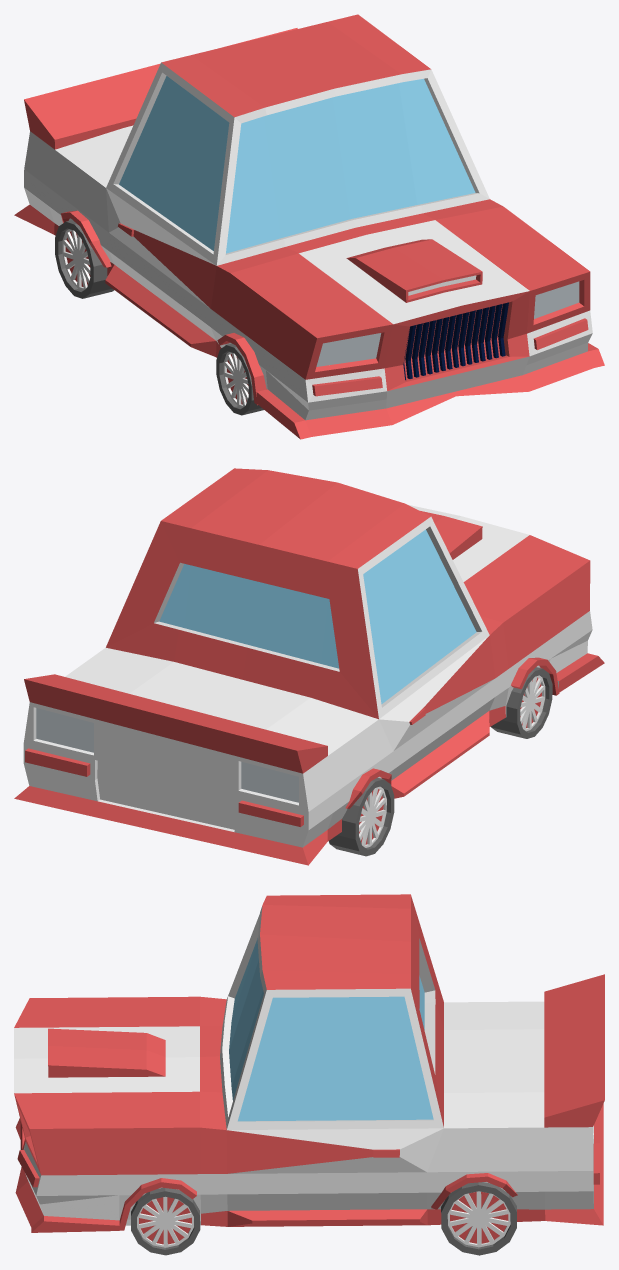
The model's file is Low-Poly-Racing-Car.glb.
3 renders of one model, top to bottom at view 1: azimuth 30°, elevation 25°; view 2: azimuth 150°, elevation 25°; view 3: azimuth 270°, elevation 25°, orthographic.
Parts seen in each view (by area): view 1: body, lattice.1, wheel.1, headlight, wheel1.1, front_fender, rear_fender; view 2: body, backlight, wheel.1, wheel1.1, front_fender, rear_fender; view 3: body, wheel.1, wheel1.1, front_fender, rear_fender.
Boxes of the visible parts, left/top/right/bottom form: body: left=14, top=14, right=604, bottom=439; lattice.1: left=403, top=302, right=508, bottom=380; wheel.1: left=55, top=220, right=114, bottom=298; headlight: left=316, top=281, right=579, bottom=366; wheel1.1: left=216, top=343, right=263, bottom=415; front_fender: left=217, top=333, right=266, bottom=405; rear_fender: left=61, top=210, right=111, bottom=267; body: left=14, top=468, right=604, bottom=865; backlight: left=36, top=708, right=298, bottom=802; wheel.1: left=329, top=777, right=394, bottom=856; wheel1.1: left=491, top=667, right=552, bottom=738; front_fender: left=511, top=657, right=559, bottom=695; rear_fender: left=345, top=768, right=391, bottom=808; body: left=14, top=894, right=604, bottom=1232; wheel.1: left=441, top=1182, right=516, bottom=1255; wheel1.1: left=131, top=1188, right=200, bottom=1255; front_fender: left=119, top=1178, right=196, bottom=1230; rear_fender: left=431, top=1173, right=517, bottom=1209.
Size of the model in its own units: 1.38 by 1.1 by 2.36.
